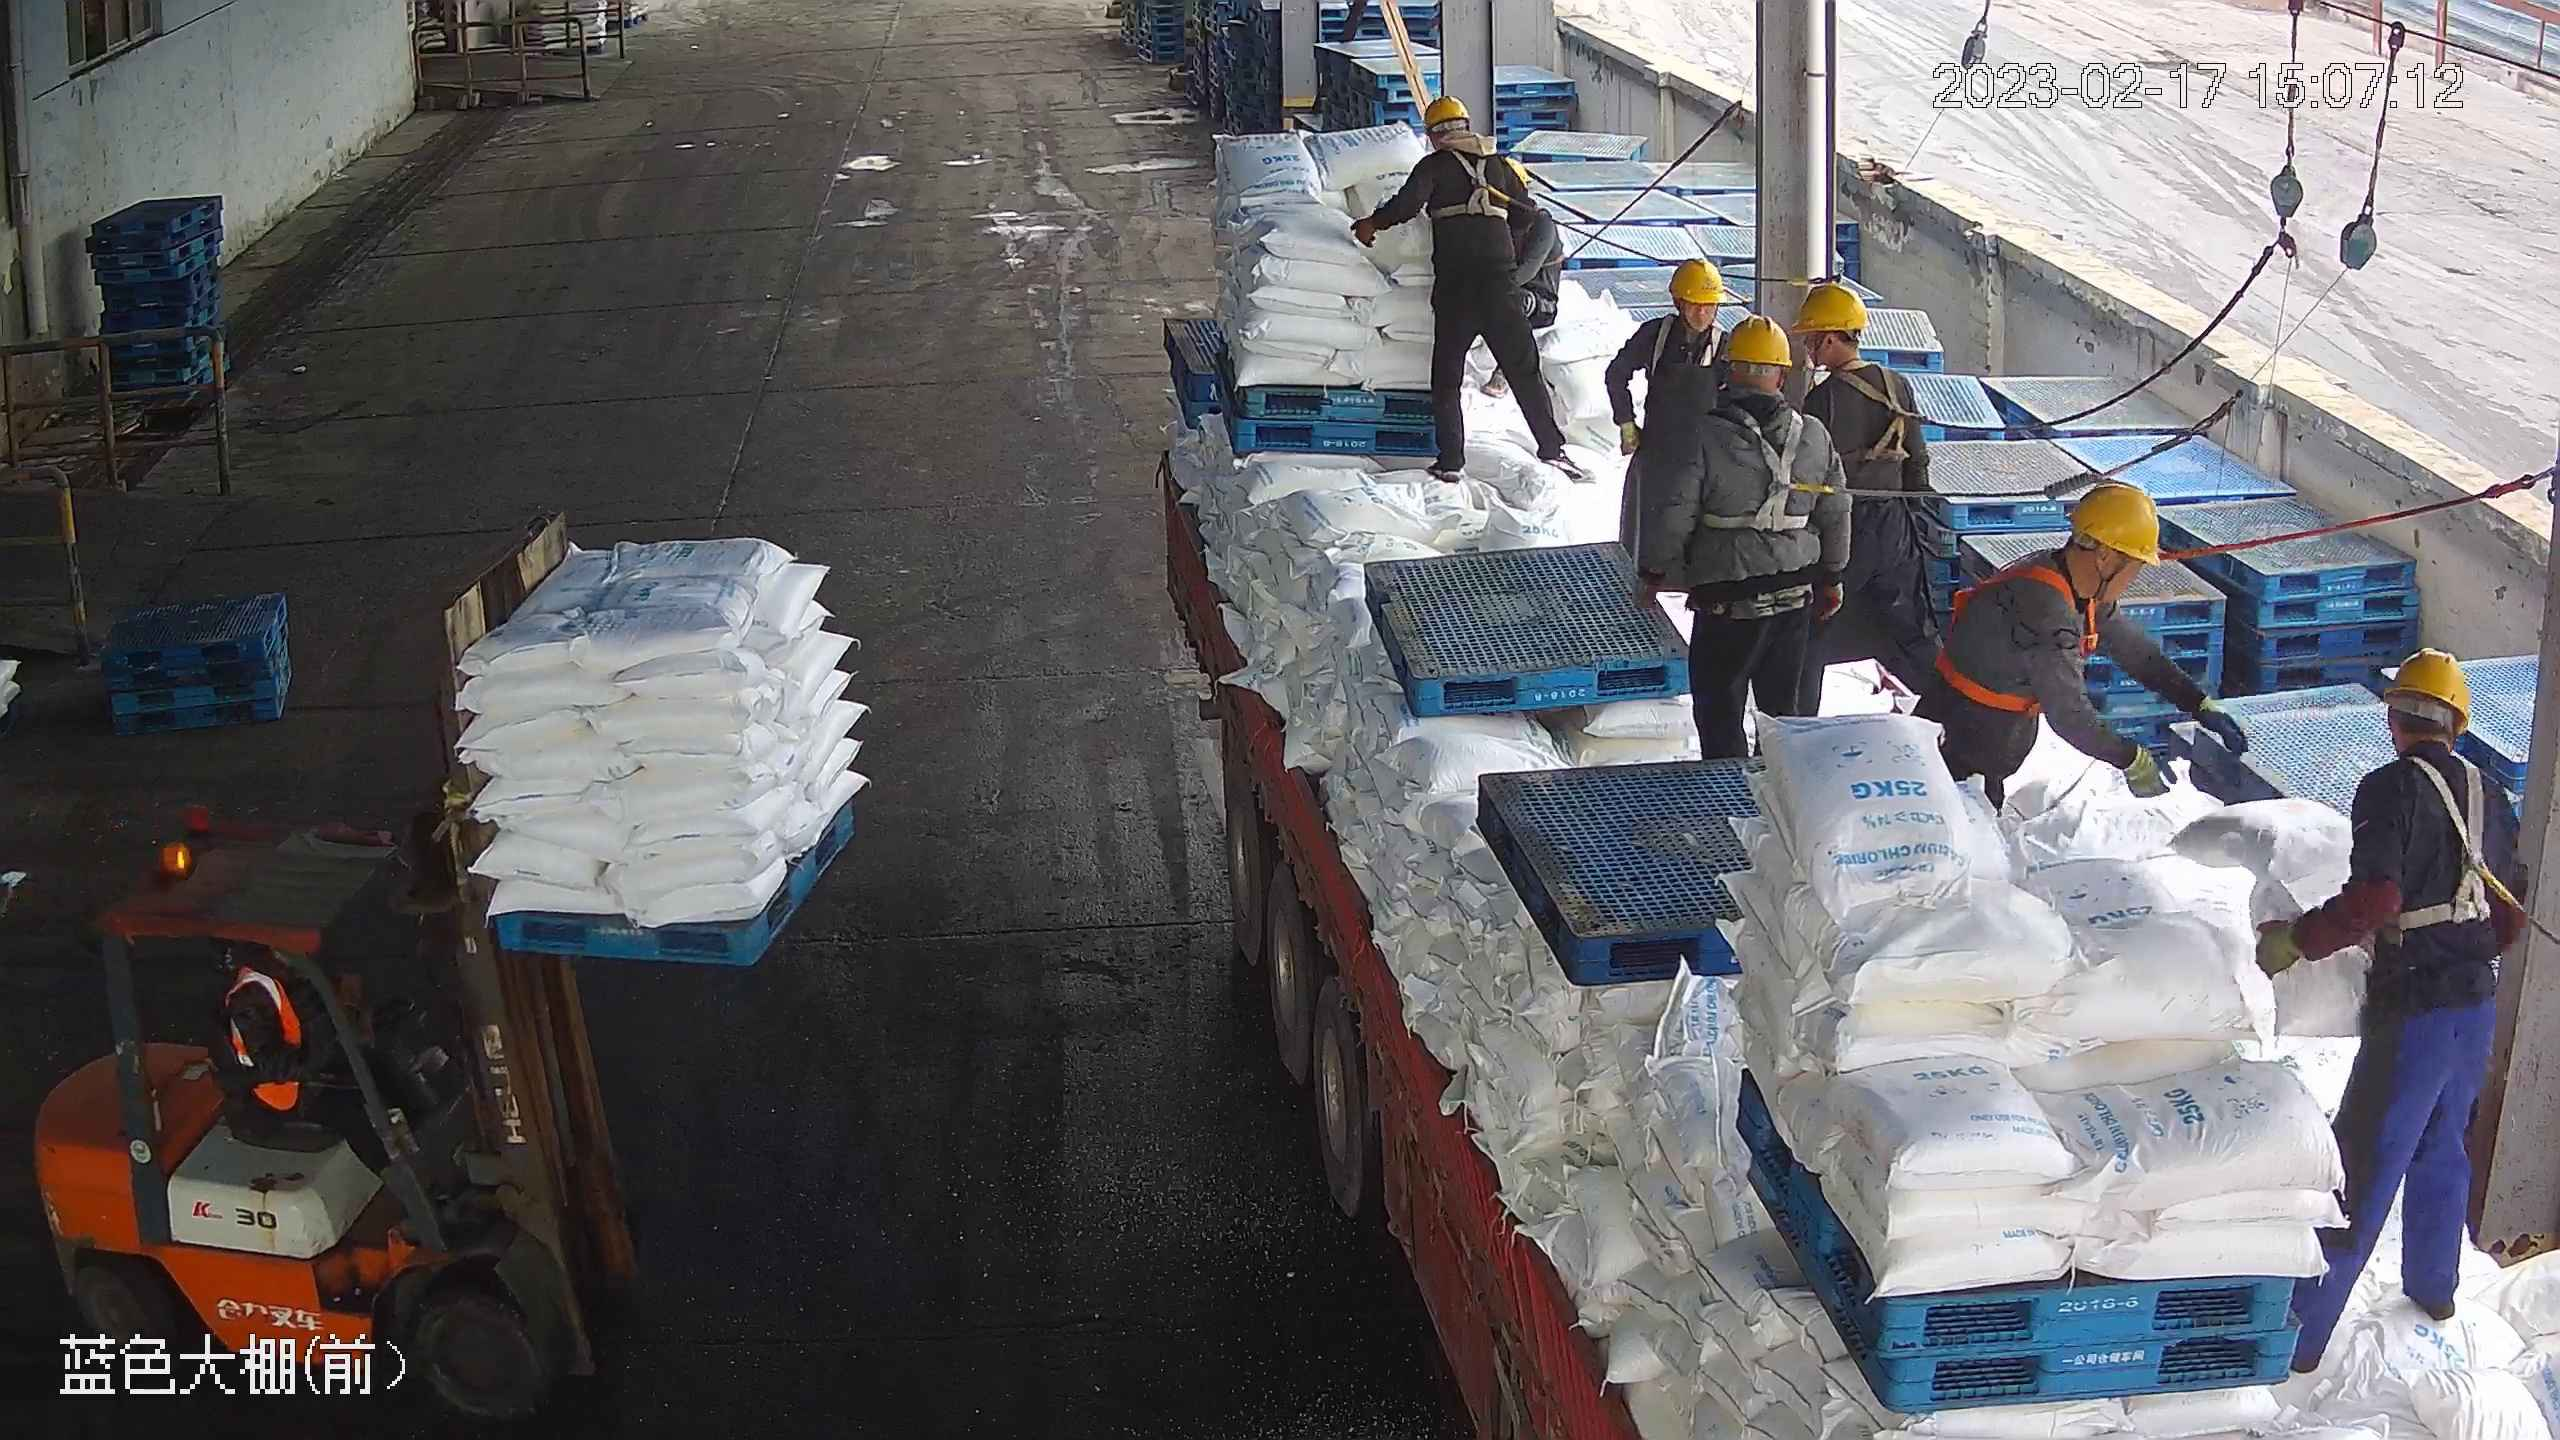belt: (1930, 553, 2108, 736), (2359, 752, 2510, 931), (1692, 397, 1831, 538), (1817, 358, 1937, 468), (1423, 150, 1519, 227), (1635, 313, 1741, 374)
head: (2303, 647, 2516, 866), (1954, 483, 2164, 669), (1788, 281, 1937, 471), (1687, 319, 1841, 490), (1395, 94, 1523, 230), (1620, 264, 1742, 369)
helmet: (2057, 478, 2162, 562), (2381, 647, 2473, 728), (1722, 313, 1790, 367), (1791, 283, 1867, 332), (1669, 256, 1725, 308), (1418, 91, 1478, 130)
people: (1156, 400, 2560, 1440), (2251, 644, 2534, 1374), (1912, 479, 2248, 800), (1351, 94, 1598, 488), (1637, 317, 1854, 767), (1790, 279, 1945, 705), (1608, 266, 1732, 586)
